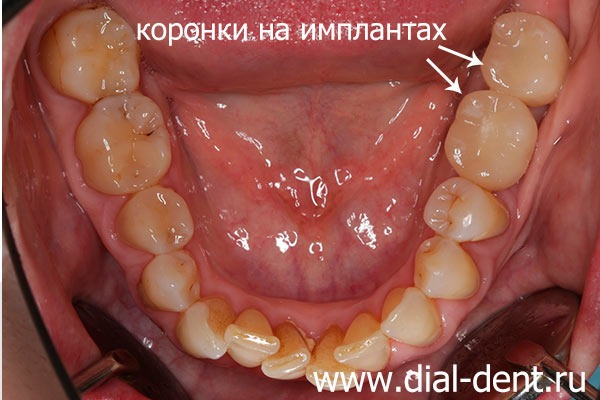LL1BC_healthy: (415, 239, 480, 298)
LL1M_healthy: (446, 96, 537, 185)
LL2BC_decay: (426, 180, 509, 239)
LL2M_healthy: (487, 15, 566, 100)
LLCI_decay: (311, 325, 347, 372)
LLC_healthy: (381, 287, 440, 343)
LLLI_healthy: (346, 315, 388, 370)
LR1BC_healthy: (149, 252, 200, 312)
LR1M_decay: (77, 95, 170, 191)
LR2BC_healthy: (121, 189, 193, 251)
LR2M_healthy: (58, 7, 136, 95)
LRCI_healthy: (266, 321, 308, 381)
LRC_healthy: (181, 300, 229, 360)
LRLI_healthy: (229, 309, 278, 364)
